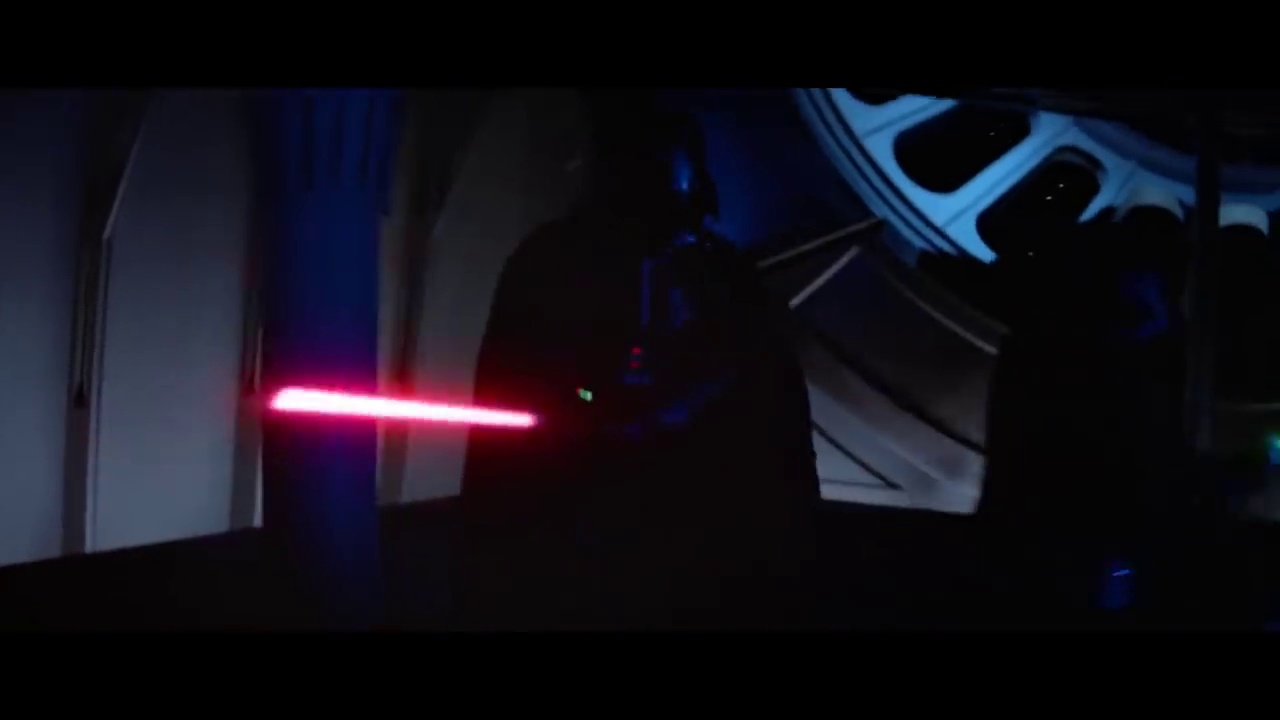lightsaber: (258, 363, 581, 456)
